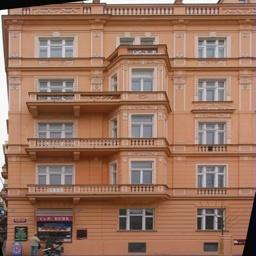building: (3, 0, 256, 256)
